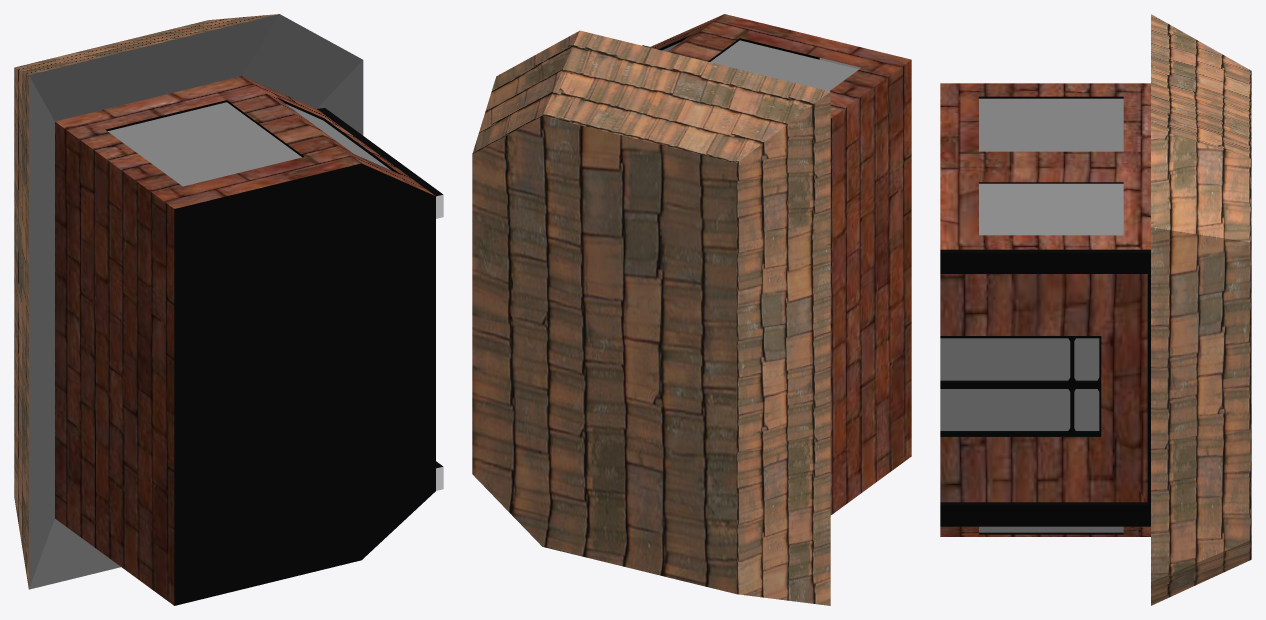
File: shop.fbx
3 views of the same model, side by side, from view 1: azimuth 30°, elevation 25°; view 2: azimuth 150°, elevation 25°; view 3: azimuth 270°, elevation 25° (orthographic). The views are drawn at different scales.
Parts seen in each view (by area): view 1: Cube.001; view 2: Cube.001; view 3: Cube.001.
Boxes of the visible parts, x1,y1,x2,y2 form: Cube.001: (14,14,443,605); Cube.001: (472,14,911,605); Cube.001: (940,14,1251,605).
Size of the model in its own units: 969 by 1425 by 841.
